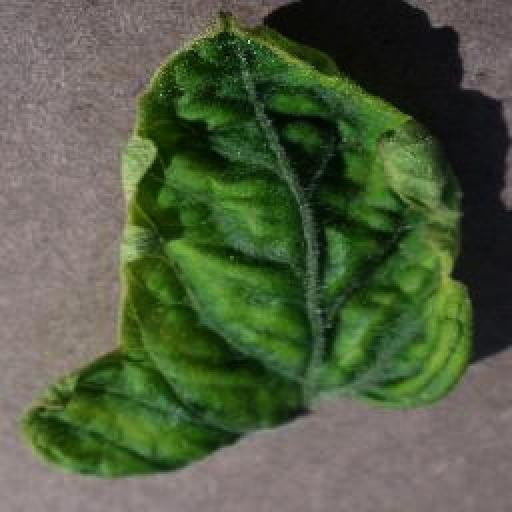disease_tomato: (24, 10, 472, 480)
